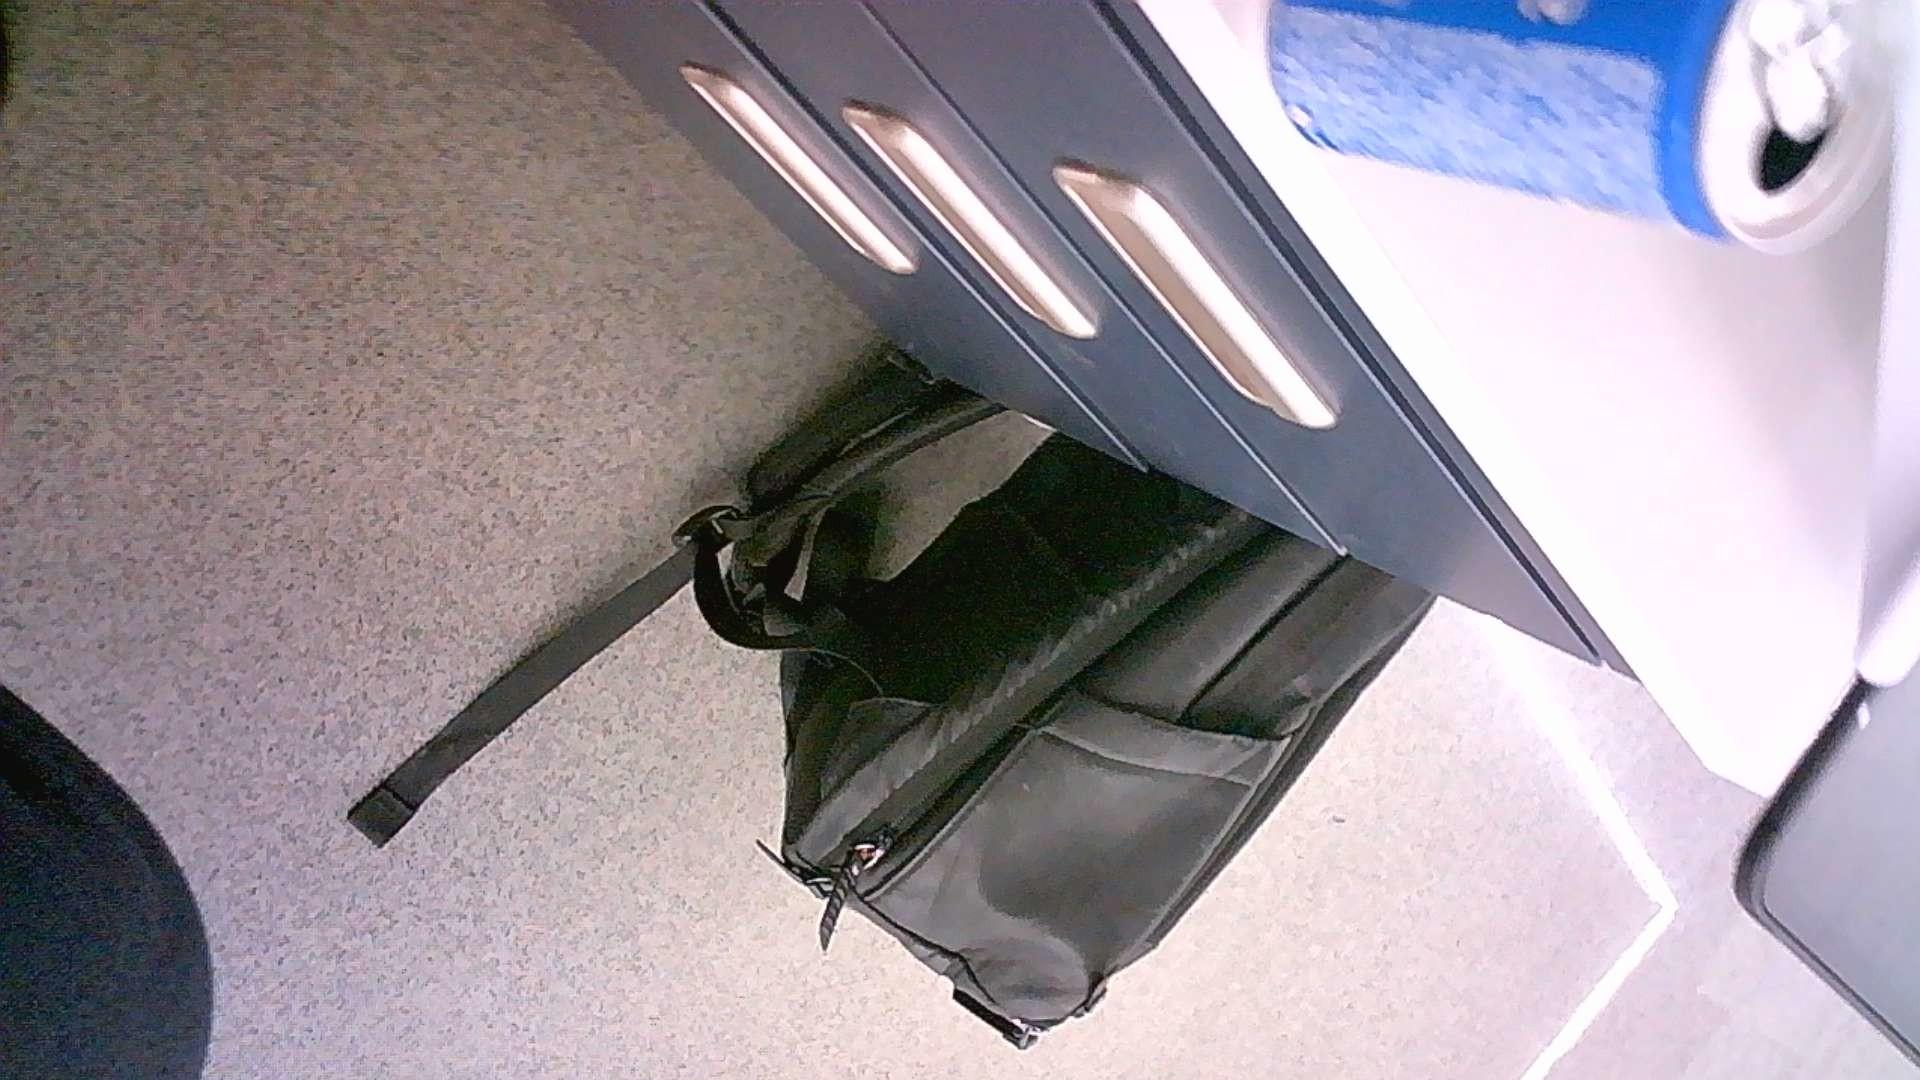letsbe: (1267, 1, 1920, 255)
